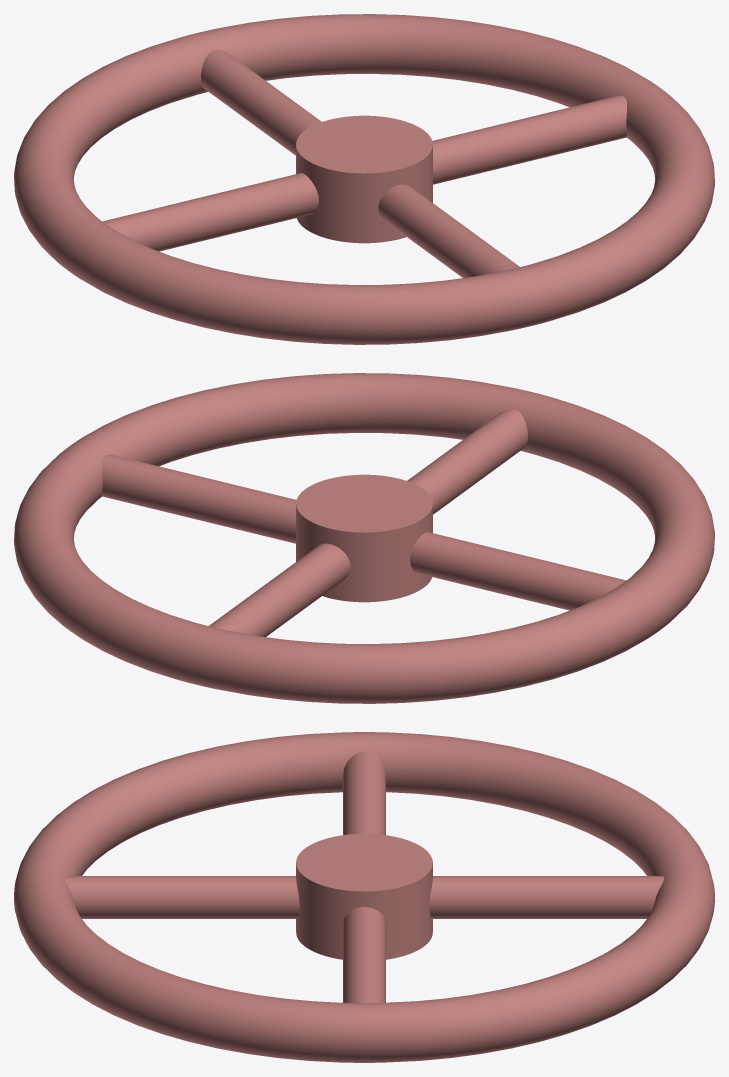
File: step_16.glb
The picture shows the model from 3 angles, top to bottom: view 1: azimuth 30°, elevation 25°; view 2: azimuth 150°, elevation 25°; view 3: azimuth 270°, elevation 25°; orthographic projection.
Visible parts, largest first — view 1: part__handwheel top valve; view 2: part__handwheel top valve; view 3: part__handwheel top valve.
Part boxes in pixels (x1,y1,x2,y2): part__handwheel top valve: (14,14,714,344); part__handwheel top valve: (14,373,714,703); part__handwheel top valve: (14,732,714,1062).
Size of the model in its own units: 164 by 18 by 164.
